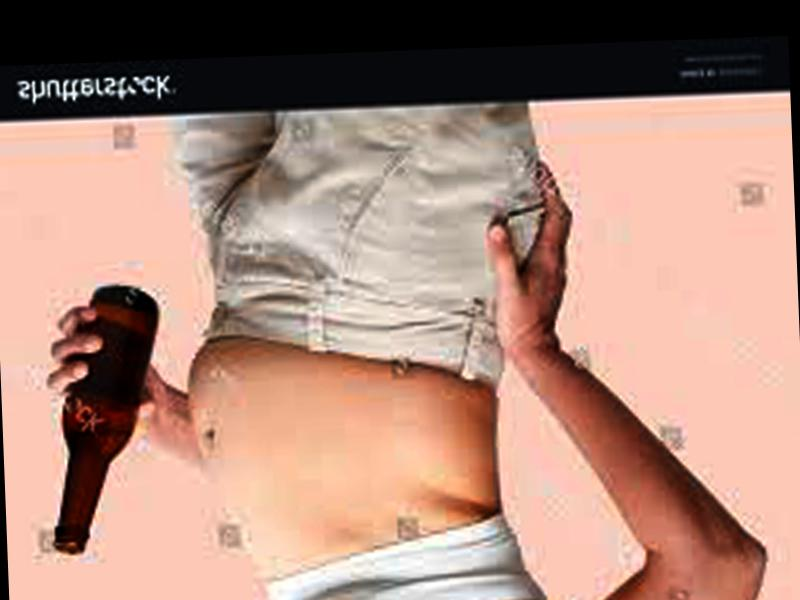Beer: (43, 281, 172, 551)
